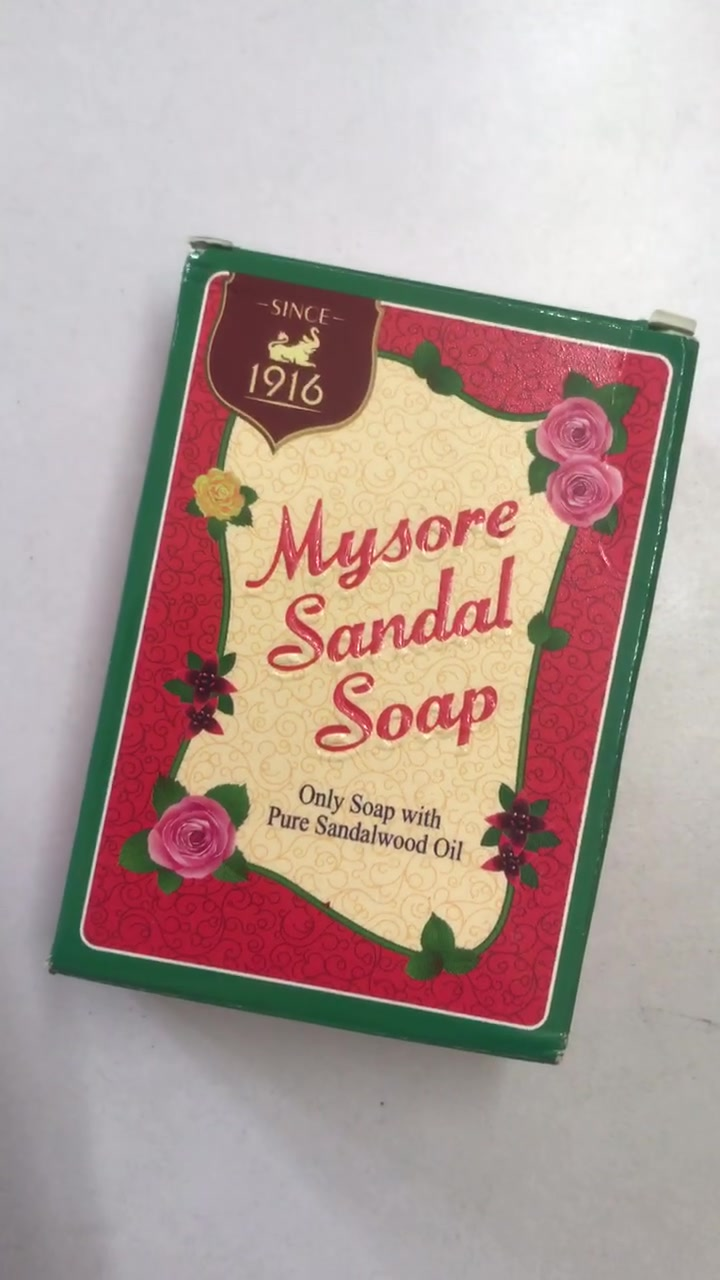mysore sandal soap: (58, 243, 701, 1059)
